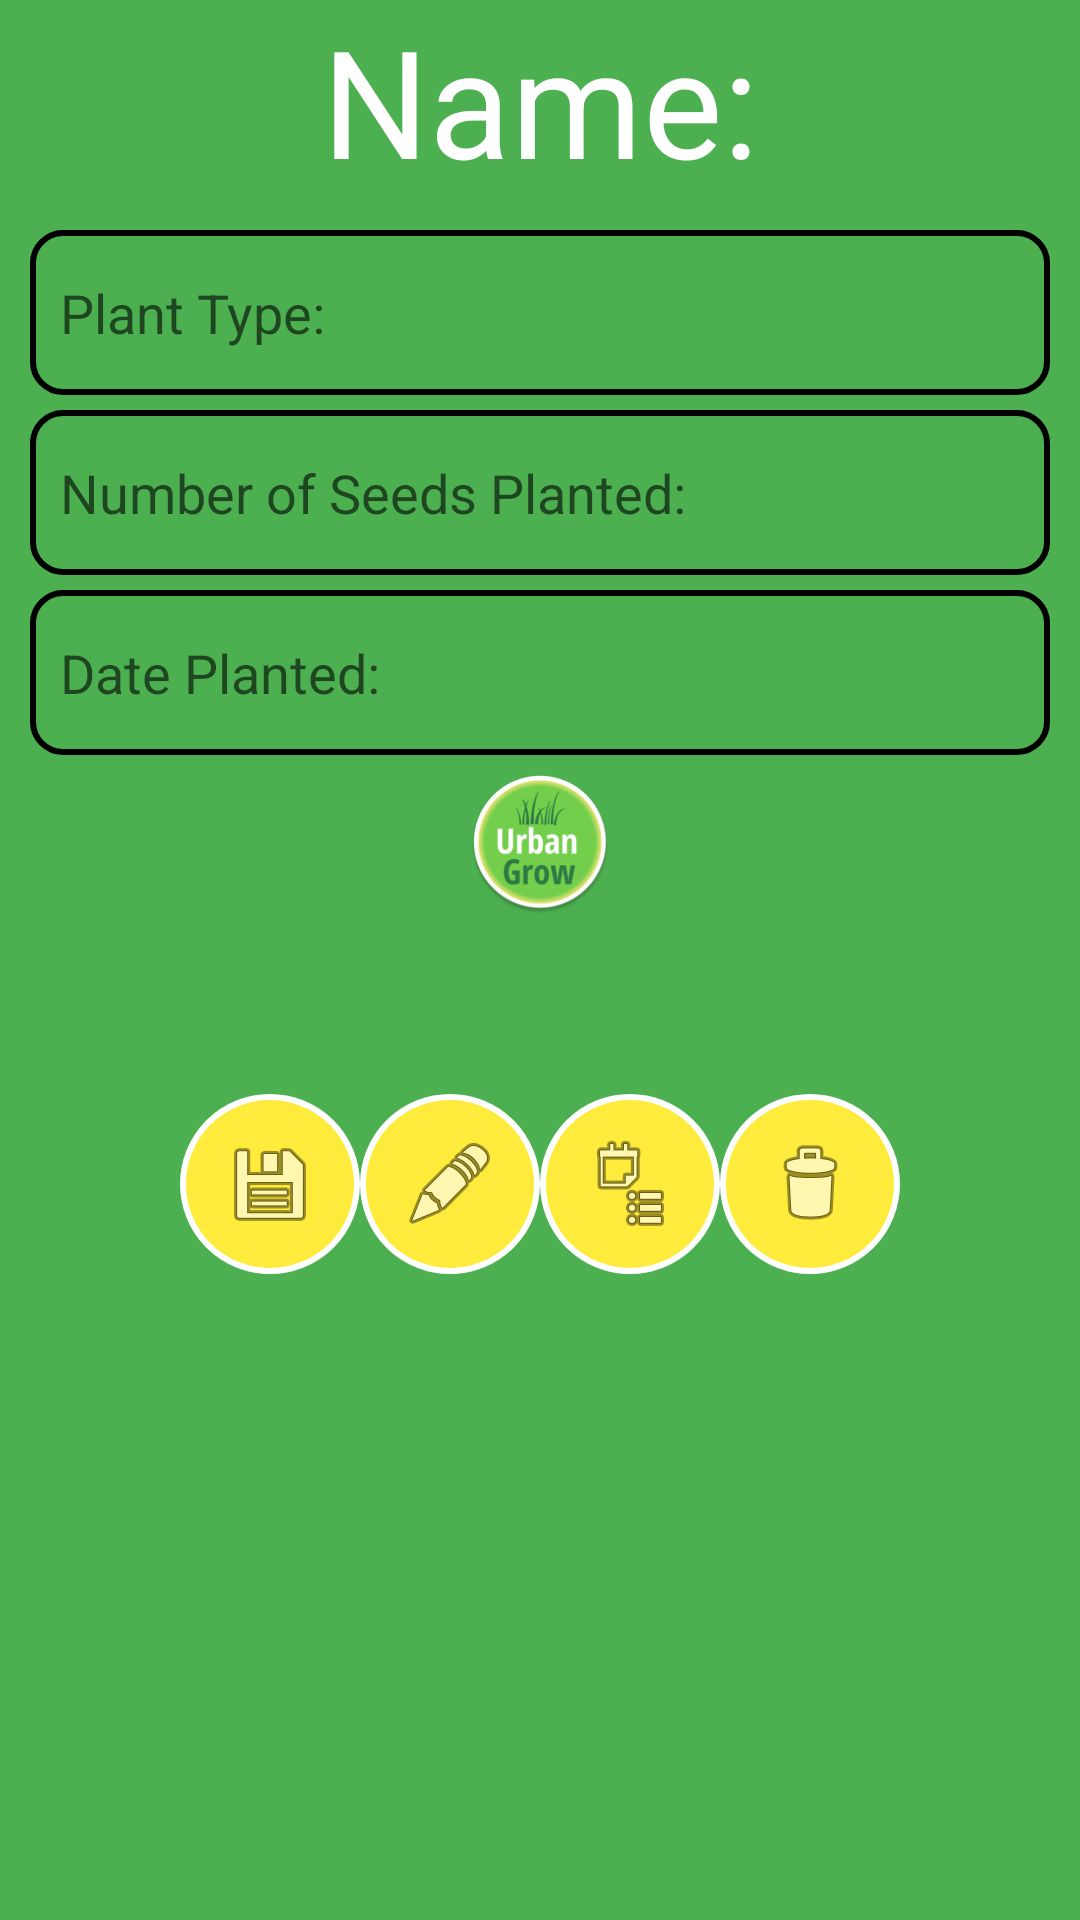

Point at icon controls on the screen. Image size 1080×1920, points as (x,y).
agenda: (630,1184)
delete: (810,1184)
edit: (450,1184)
save: (270,1184)
